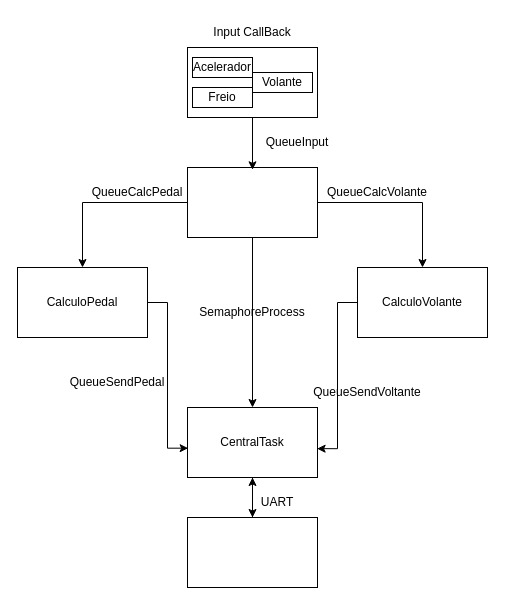
Some shapes in this 505 by 605 pixel diagram are drawn without their labels. Here are the shapes that lost their labels. From the top down, the centre of each, then its label:
At pixel 252 202: "ProcessTask".
At pixel 252 552: "PC".
